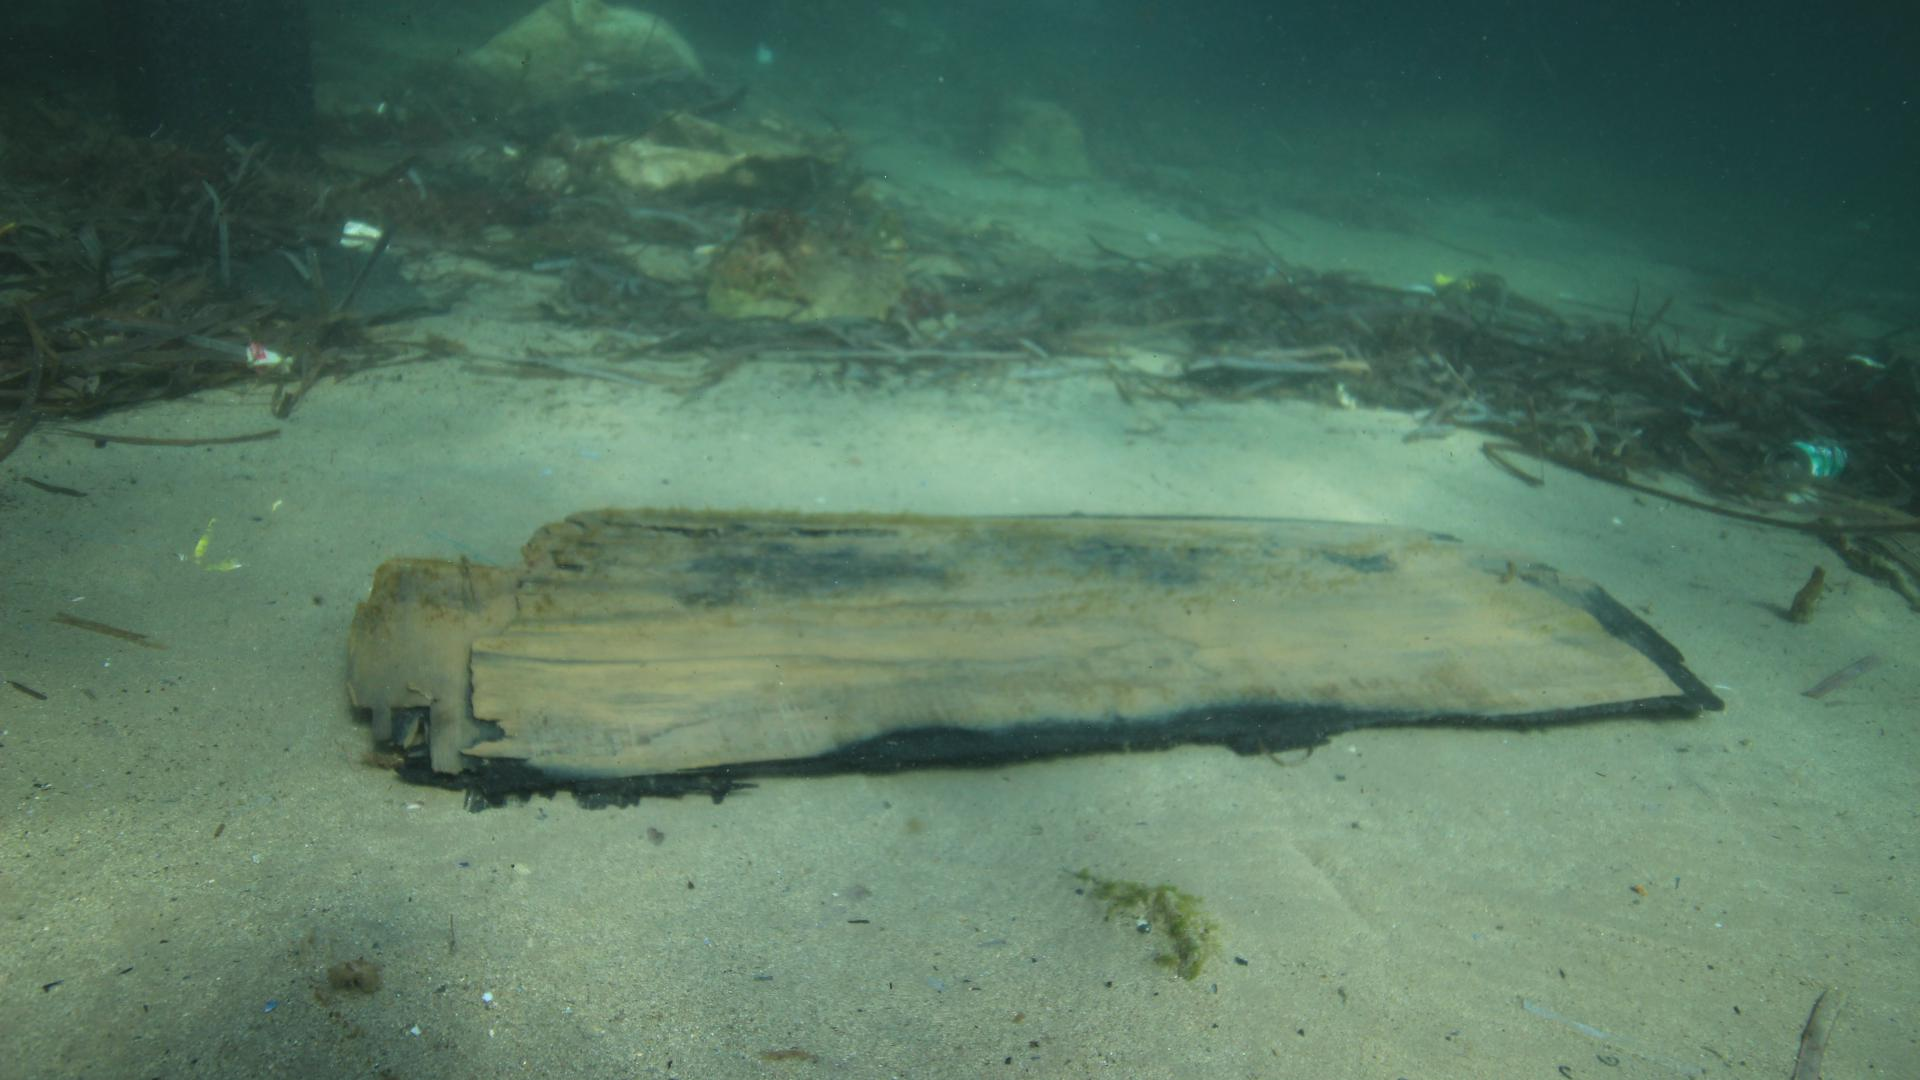wood: (347, 501, 1721, 777)
